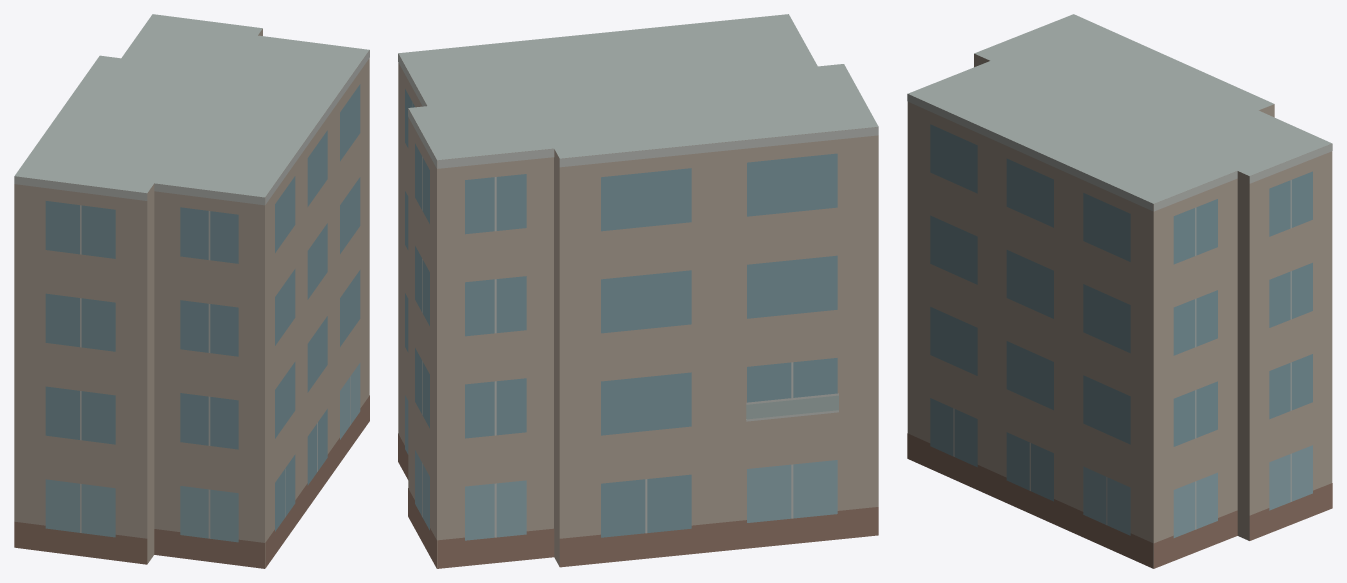
Rendered from survey-upis-32875463.glb.
3 views of the same model, side by side, from view 1: azimuth 30°, elevation 25°; view 2: azimuth 150°, elevation 25°; view 3: azimuth 270°, elevation 25° (orthographic). The views are drawn at different scales.
Visible parts, largest first — view 1: survey-upis-32875463.tmp; view 2: survey-upis-32875463.tmp; view 3: survey-upis-32875463.tmp.
Boxes of the visible parts, <box> form: survey-upis-32875463.tmp: <box>14,14,369,568</box>; survey-upis-32875463.tmp: <box>398,14,878,568</box>; survey-upis-32875463.tmp: <box>907,14,1332,568</box>.
Size of the model in its own units: 12.84 by 11.5 by 12.14.
